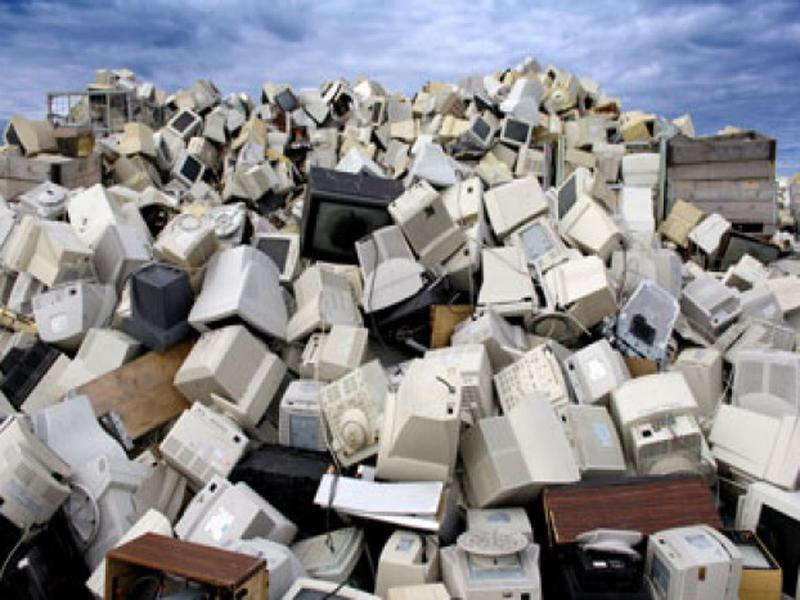tv_pc: (459, 394, 583, 511), (167, 326, 289, 430), (182, 244, 304, 339), (294, 166, 409, 264), (371, 380, 474, 489), (111, 263, 200, 351), (462, 241, 546, 322)
